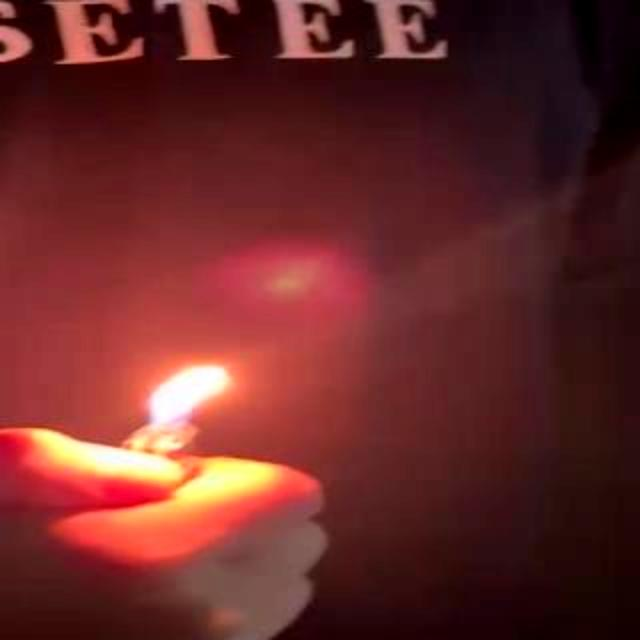fire: (125, 365, 230, 454)
